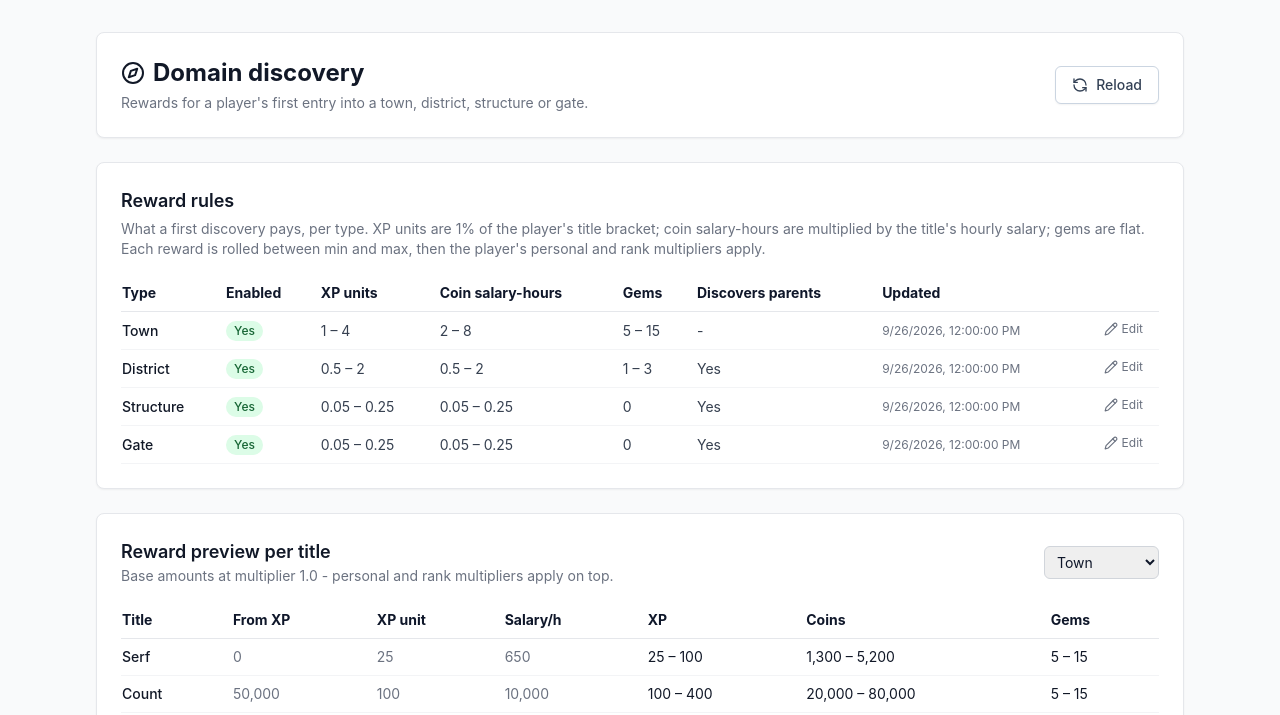
Test: DiscoveryAdminPage › updates the preview while a rule is edited, and saves it
The image size is (1280, 715).
Expected: the text "Serf" is shown, [121,638,232,676]
Click the button with aria-label "Edit Town rule".
click(1123, 328)  # box [1104,320,1143,336]
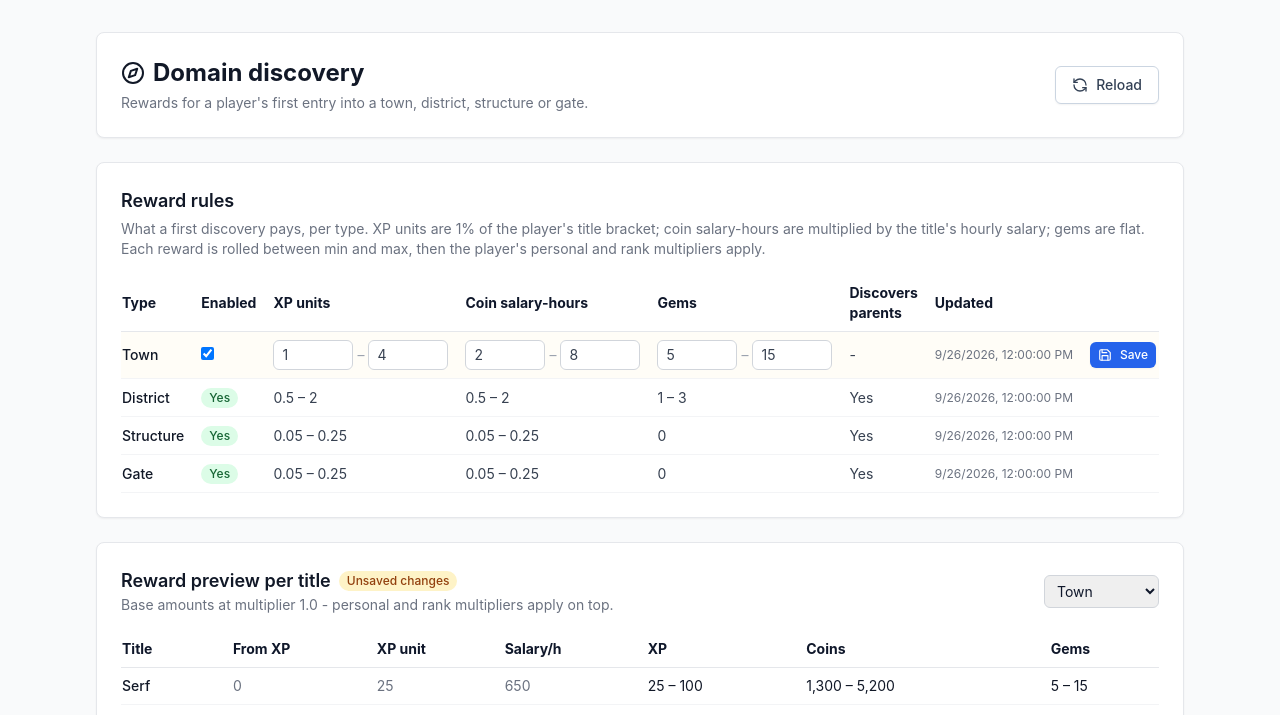
Replace the text in the number field named "Town XP units max" with "8" at [408, 355], box [368,340,448,370]
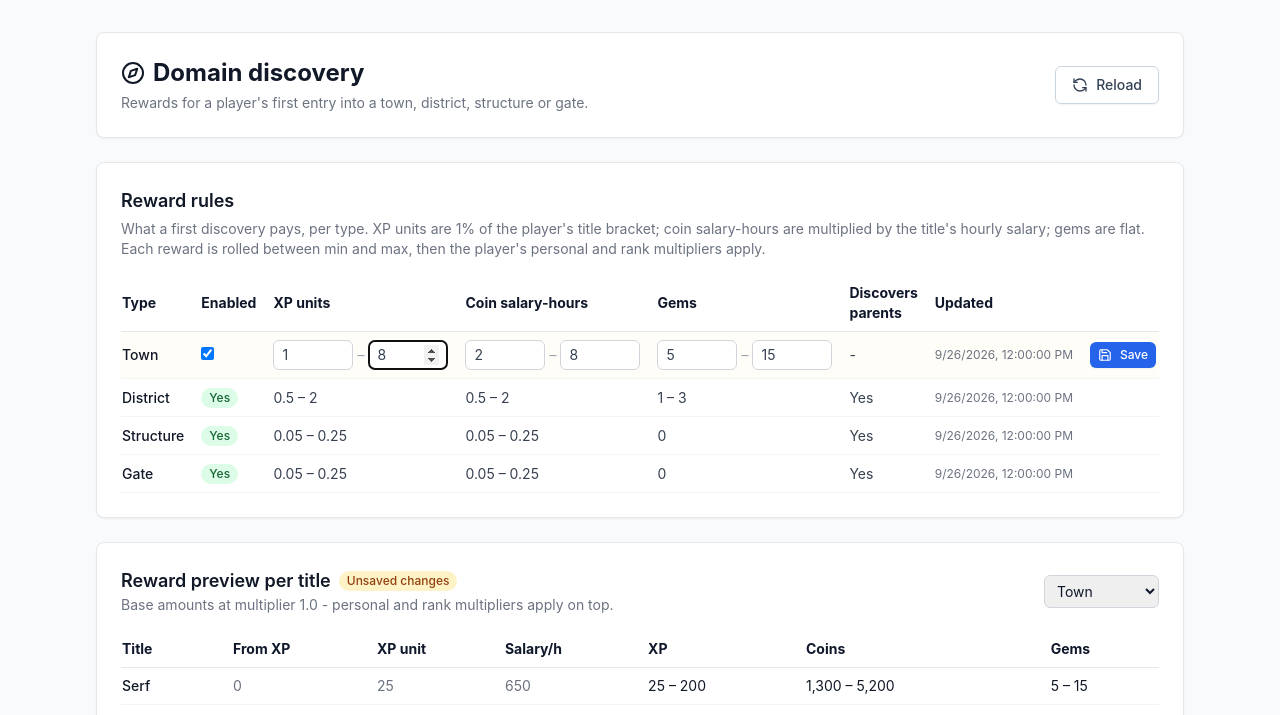
Expected: the text "Unsaved changes" is shown, [339,571,458,591]
Expected: the text "25 – 200" is shown, [647,668,805,704]
Click the button "Save".
click(1123, 355)  # box [1090,342,1156,368]
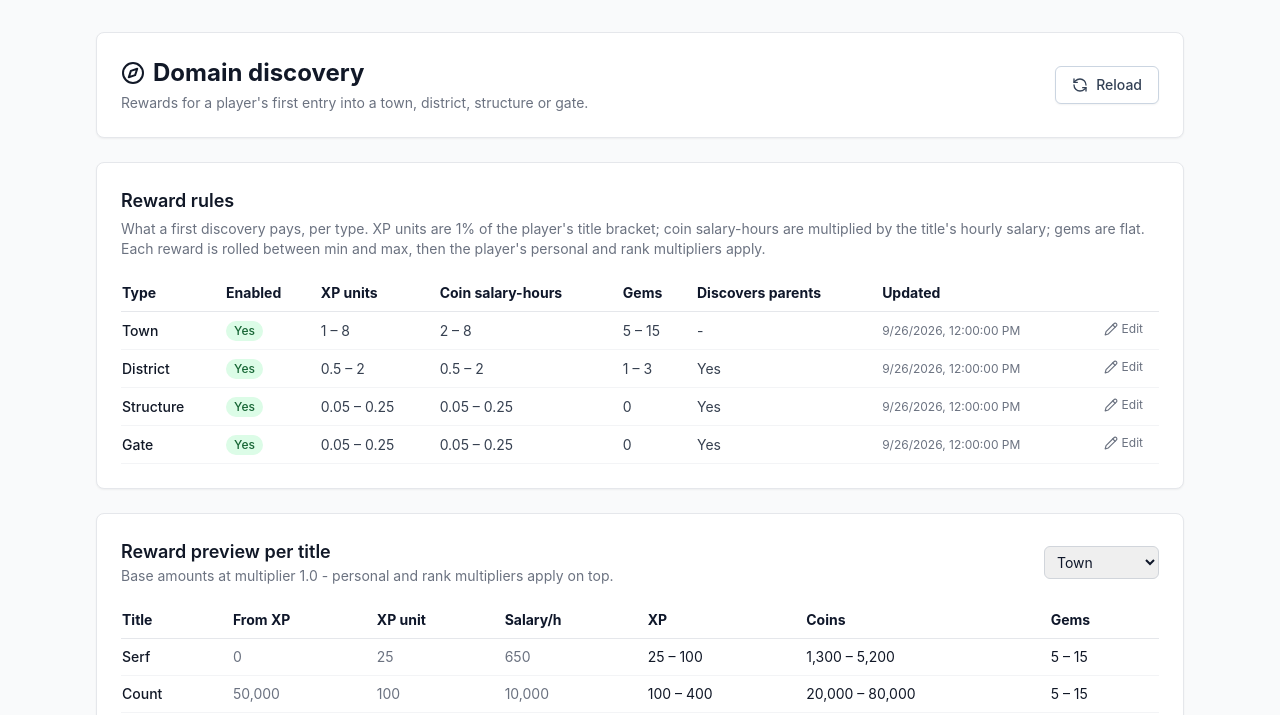
Expected: the text "1 – 8" is shown, [320,312,439,350]
Expected: the text "Unsaved changes" is gone
